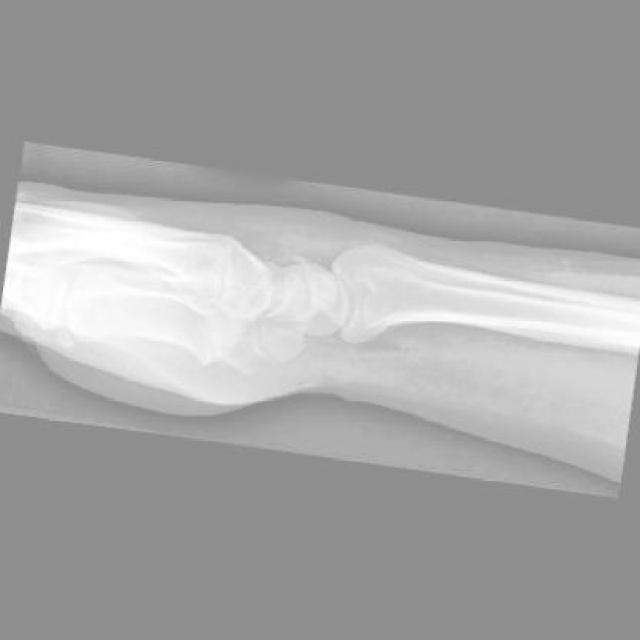Fracture: (283, 249, 311, 274)
